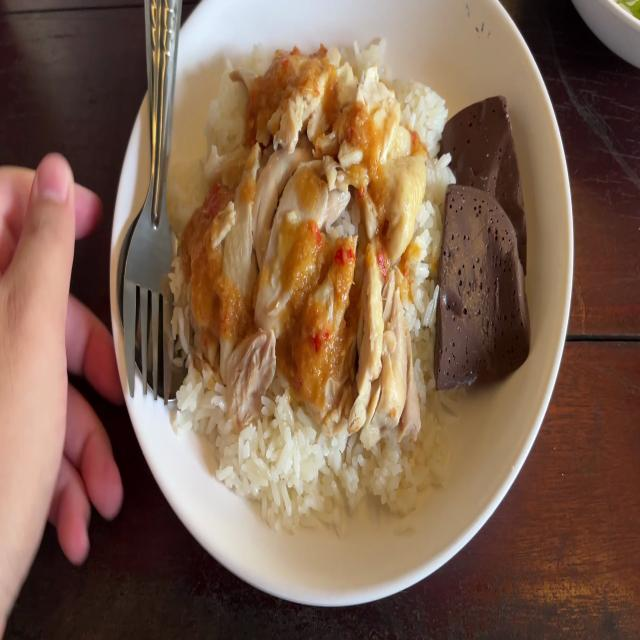chicken_rice: (186, 67, 419, 403)
noodle: (436, 175, 522, 387), (442, 97, 528, 267)
